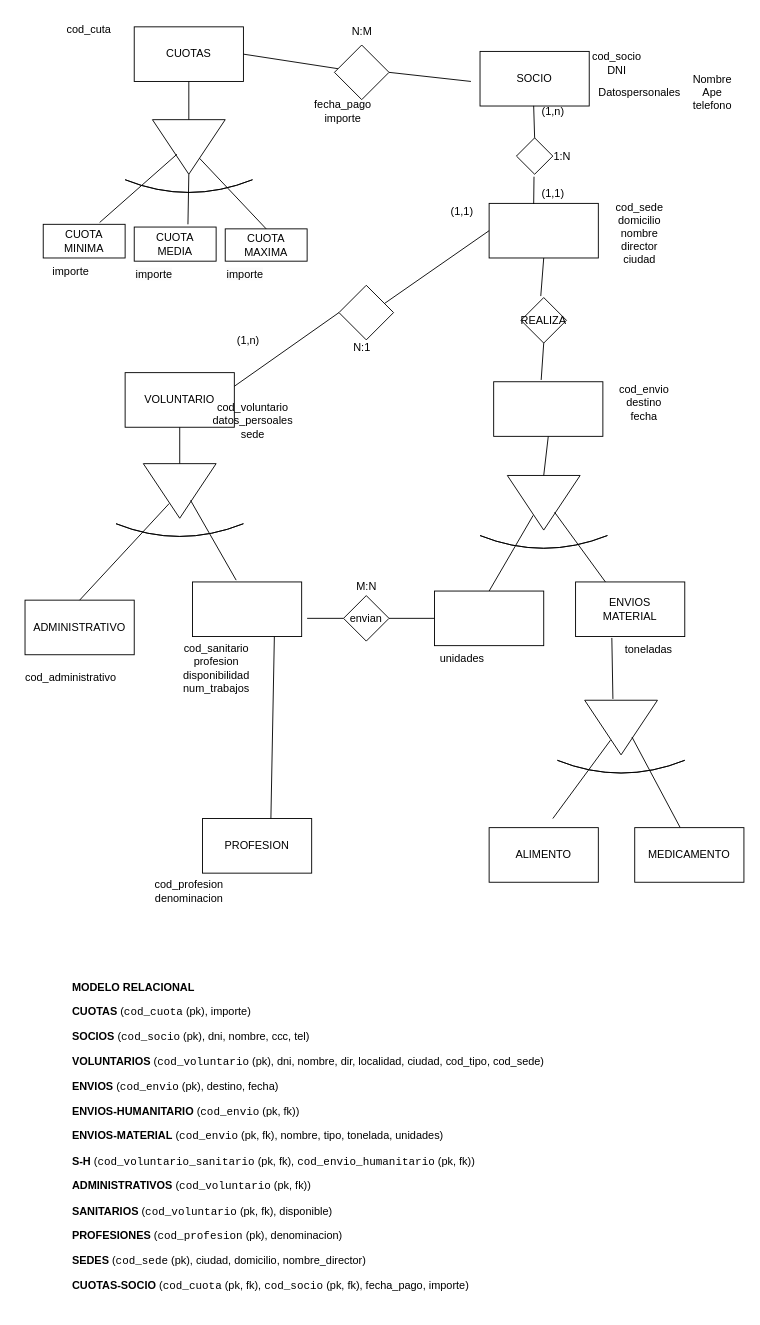
Image size: 760x1325. Some labels were removed from this diagram. The centre of each missing label's shape, as x and y in pixels:
"ENVIOS" belongs at (x=548, y=408).
"ENVIOS HUMANITARIO" belongs at (x=489, y=618).
"SANITARIOS" belongs at (x=247, y=609).
"SEDE" belongs at (x=543, y=230).
